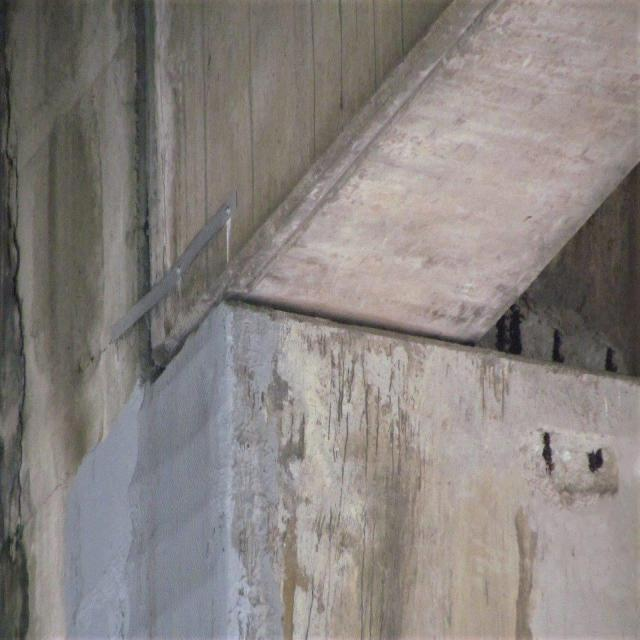Rebar: (475, 293, 627, 375), (517, 425, 621, 510)
vertical crack: (0, 8, 33, 639)
